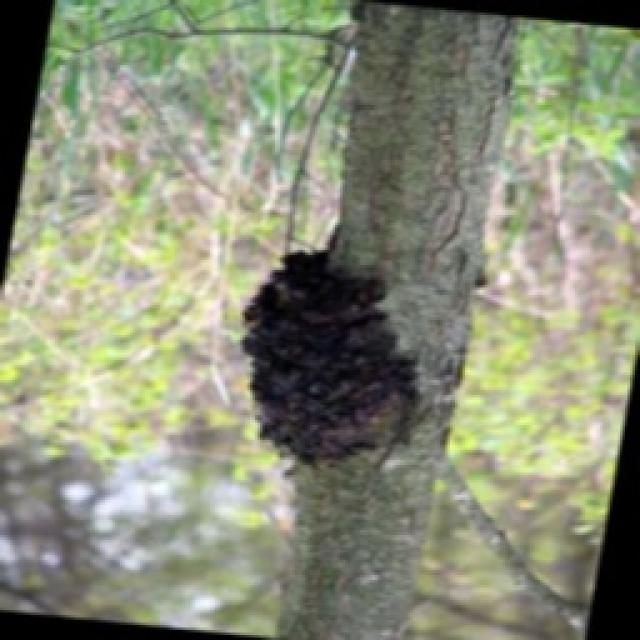Black_knot: (238, 242, 420, 468)
